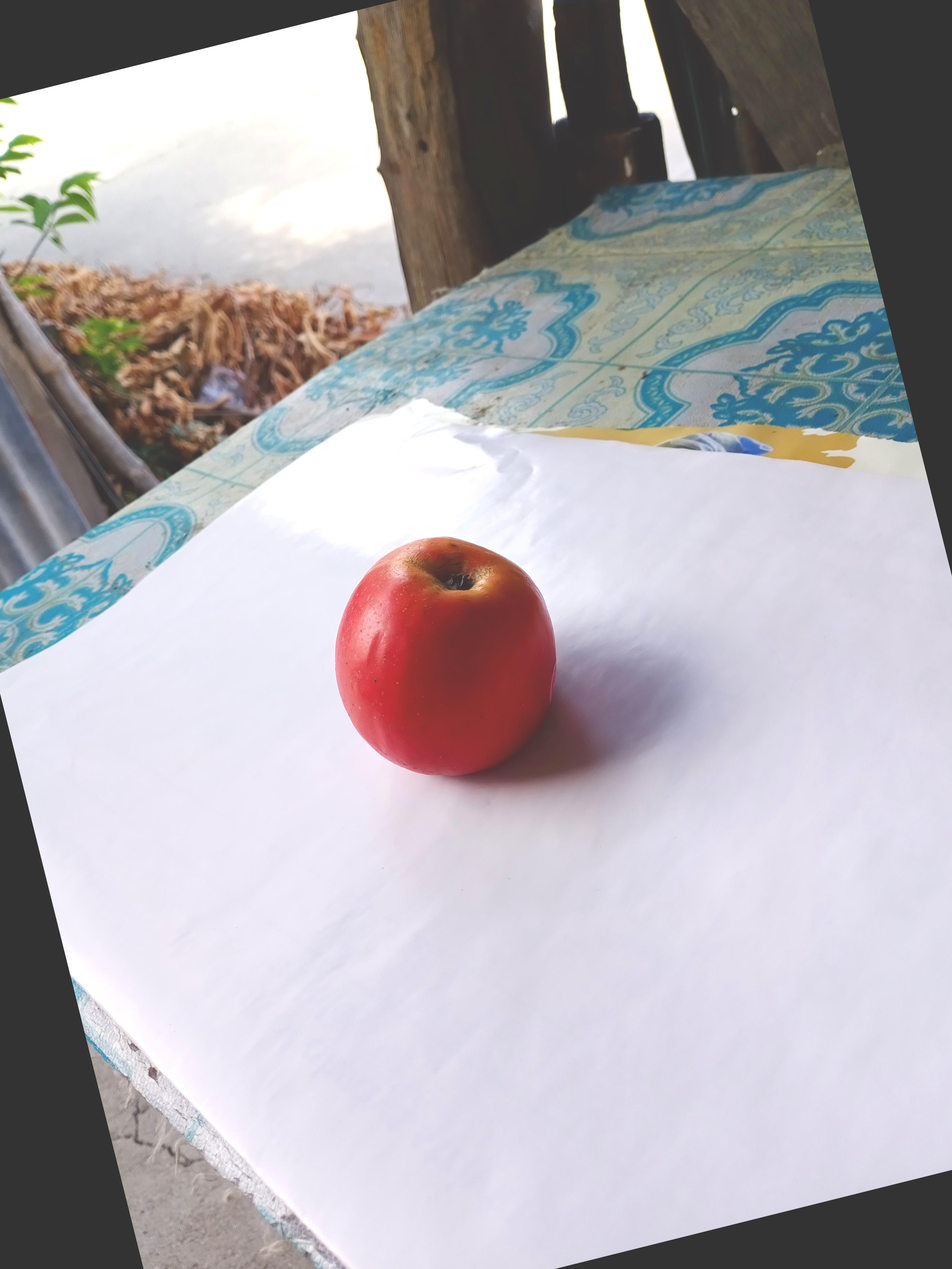Apple Ripe: (115, 656, 441, 1003)
